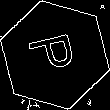P_E: (26, 31, 84, 79)
